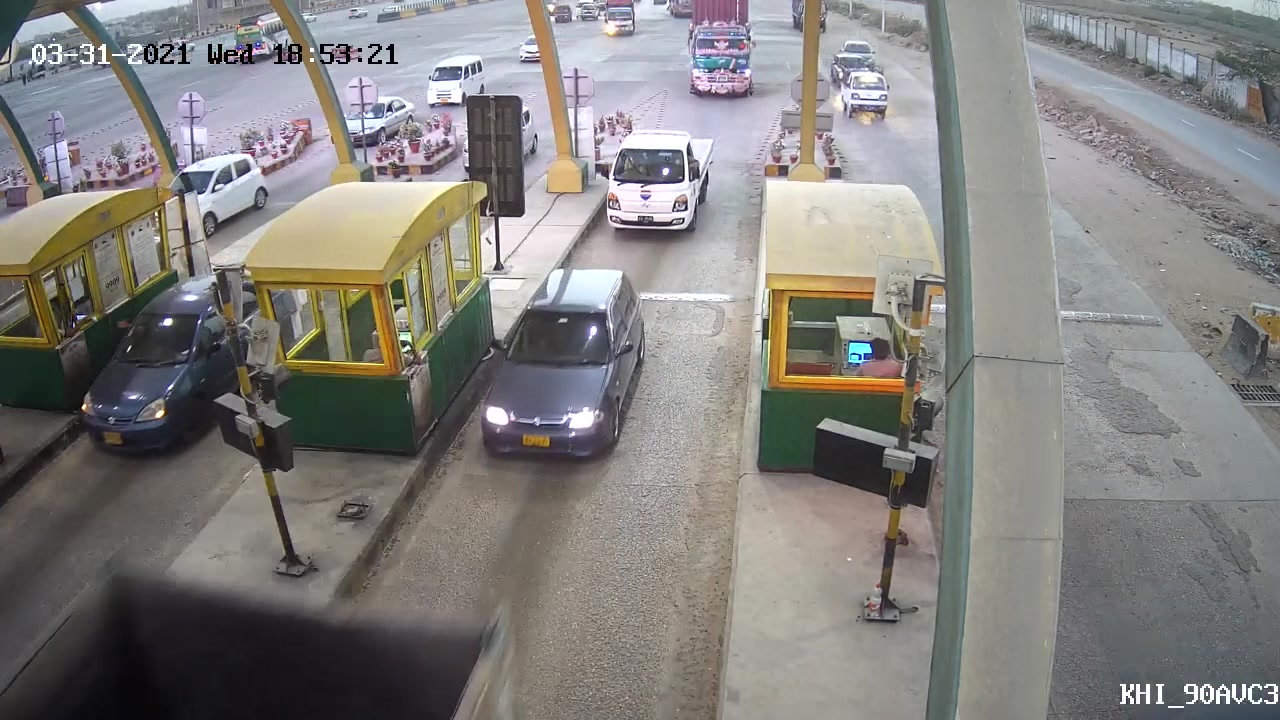F1: (468, 256, 652, 475)
F2: (597, 121, 715, 240)
